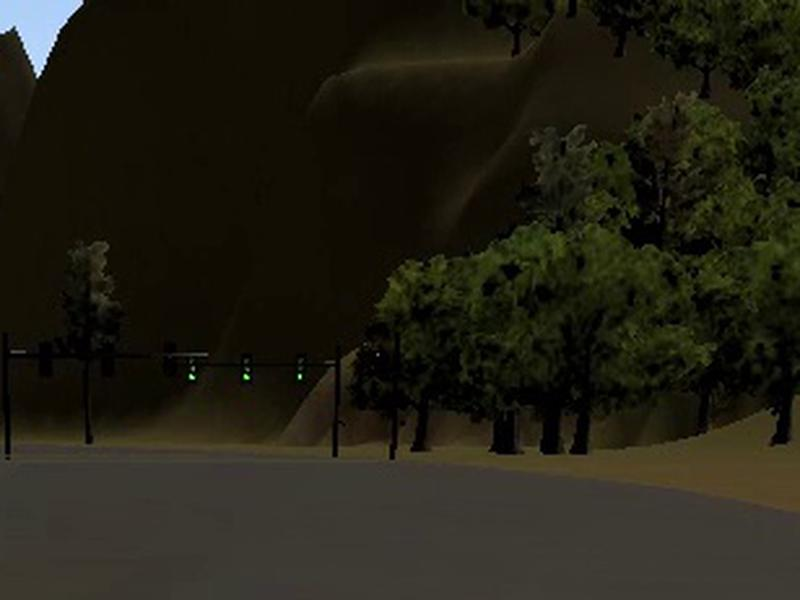Green: (242, 355, 253, 384), (188, 358, 200, 383), (295, 357, 306, 382)
